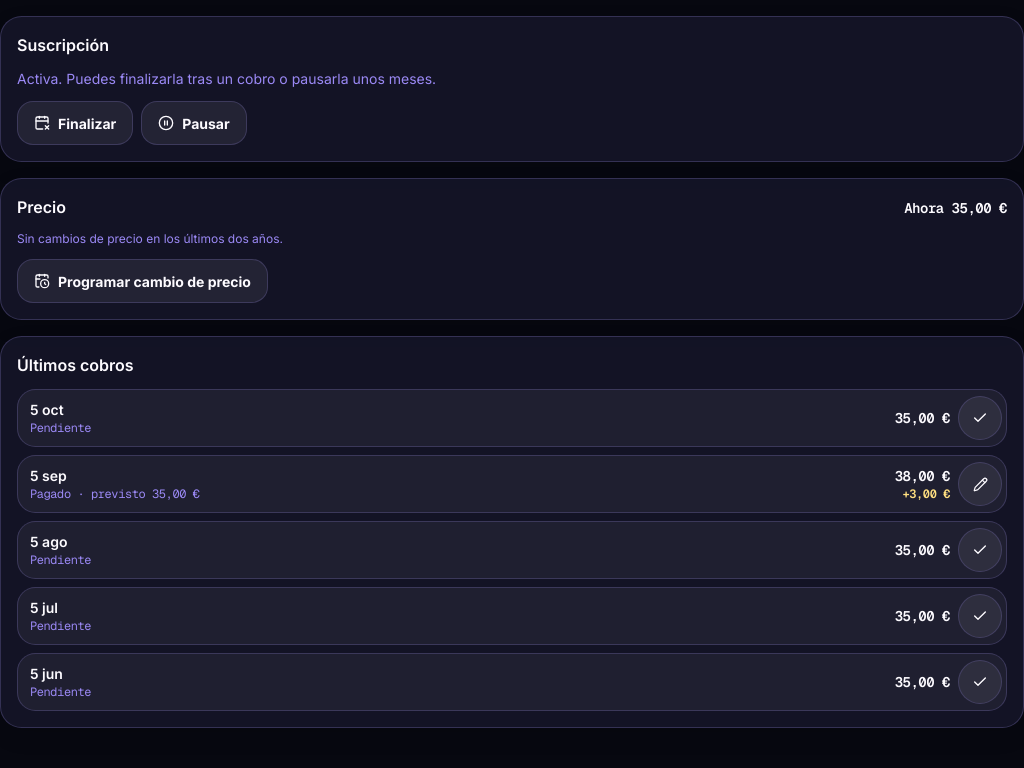
Test case: SeriesDetailSections › pays a charge with another amount and updates the series from now on
This screenshot has width=1024, height=768.
Click the button named "Pagar el cobro del 5 oct": (980, 418) [958,396,1002,440]
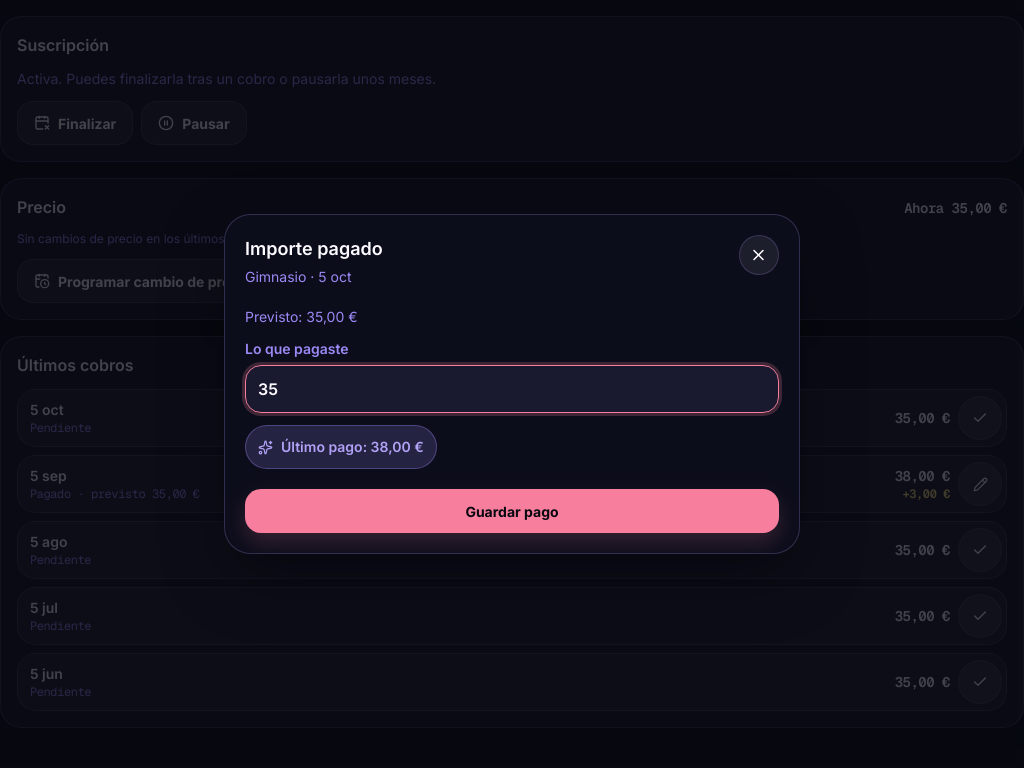
Expected: the button "Último pago: 38,00 €" is shown, [245,425,437,469]
Replace the text in the field labelled "Lo que pagaste" with "39": (512, 389) [245,365,779,413]
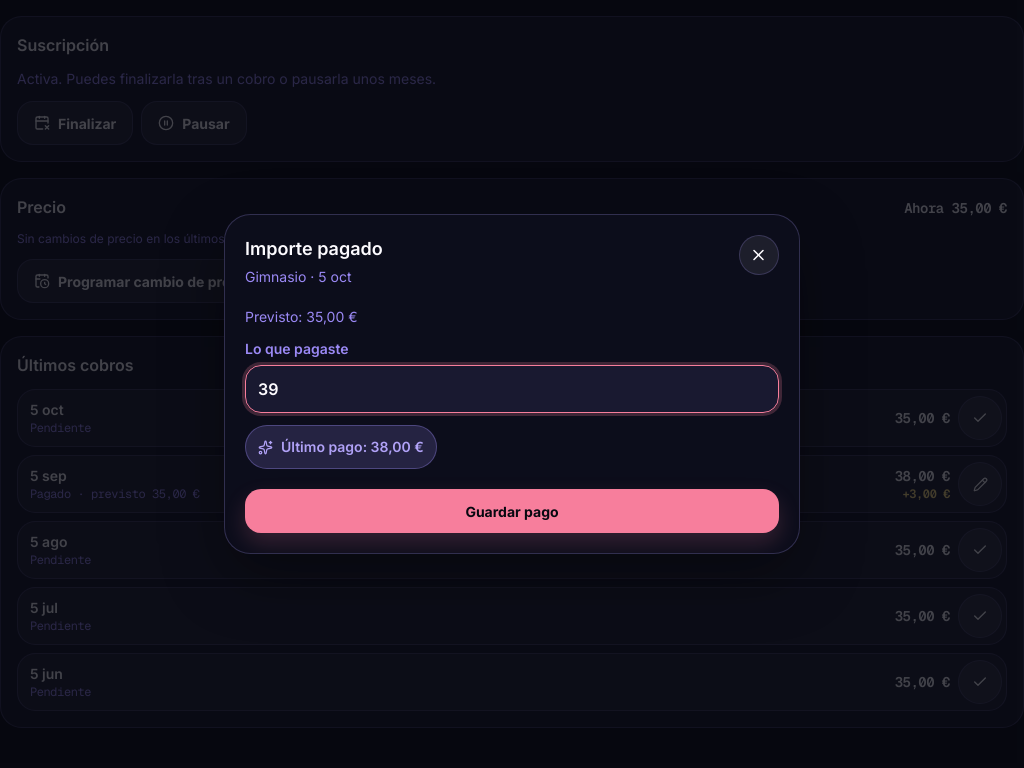
Submit the form from the button "Guardar pago", box [245,489,779,533]
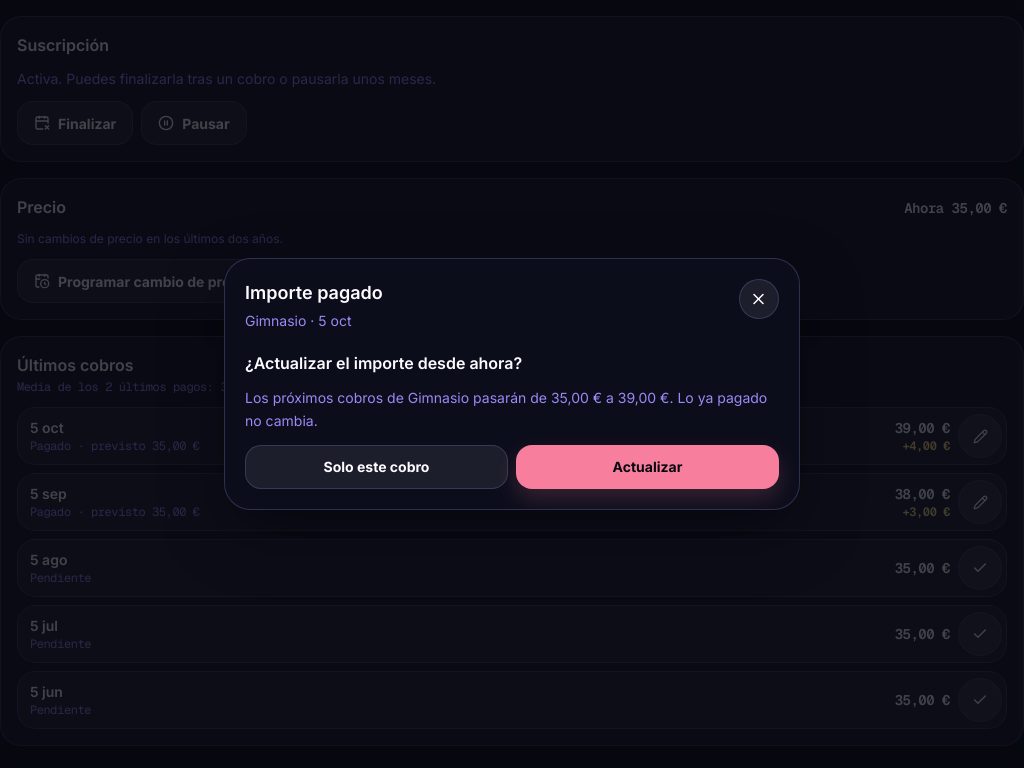
Expected: the heading "¿Actualizar el importe desde ahora?" is shown, [245,353,522,373]
Click the button "Actualizar": (648, 467) [516,445,779,489]
(page scrolled)
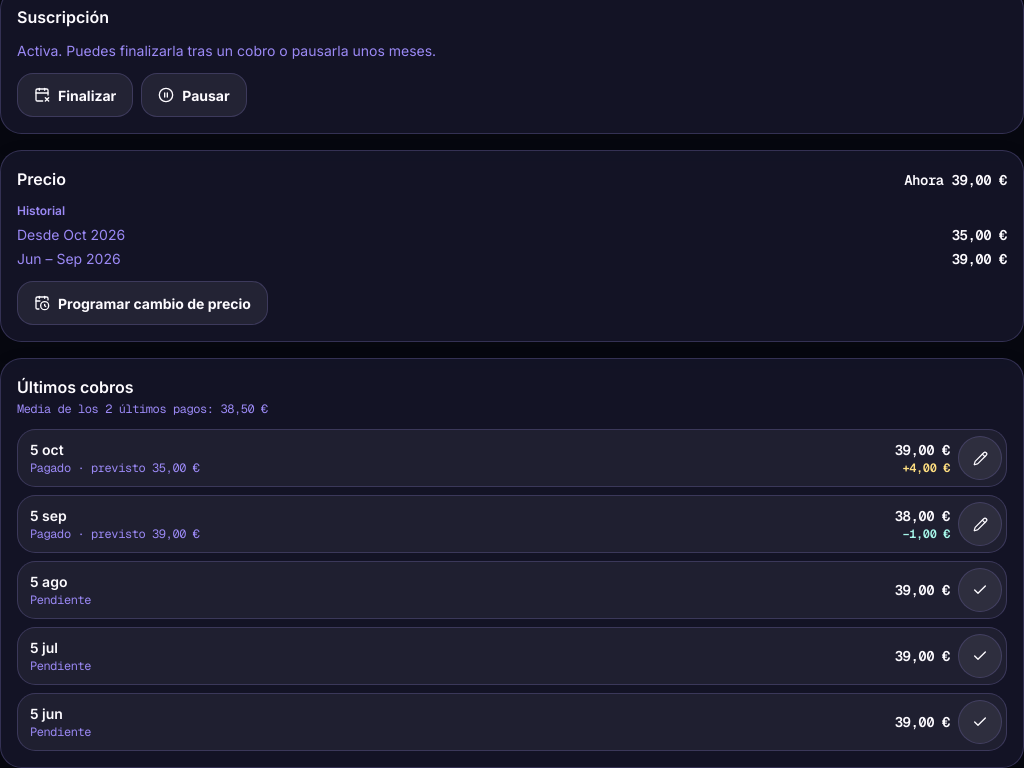
Expected: the element "Últimos cobros" shows "previsto 35,00", [30,460,200,476]
Expected: the dialog is gone
Expected: the element "Precio" shows "Ahora 39,00", [904,171,1007,189]
